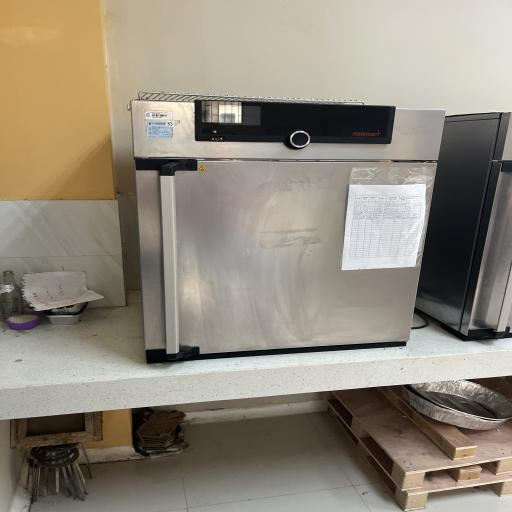Memmert_Unidad2: (118, 82, 448, 363)
